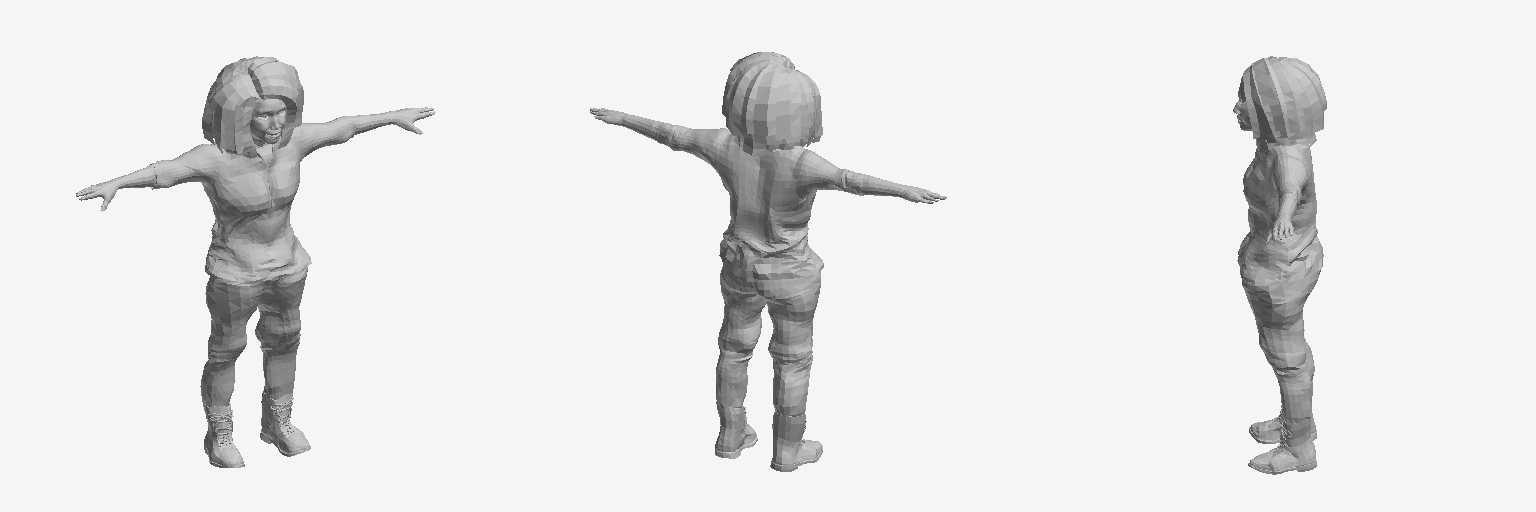
The model's file is Hades Daughter.obj.
3 views of the same model, side by side, from view 1: azimuth 30°, elevation 25°; view 2: azimuth 150°, elevation 25°; view 3: azimuth 270°, elevation 25° (orthographic).
Parts seen in each view (by area): view 1: Tops, Bottoms, Hair, Body, Shoes; view 2: Tops, Bottoms, Hair, Shoes, Body; view 3: Tops, Hair, Bottoms, Shoes, Body.
Boxes of the visible parts, x1,y1,x2,y2 form: Tops: [150, 116, 354, 284]; Bottoms: [200, 249, 307, 419]; Hair: [202, 56, 303, 158]; Body: [76, 99, 435, 211]; Shoes: [202, 390, 310, 467]; Tops: [657, 123, 863, 279]; Bottoms: [716, 257, 820, 426]; Hair: [722, 52, 822, 155]; Shoes: [715, 401, 822, 471]; Body: [590, 108, 946, 203]; Tops: [1237, 141, 1323, 285]; Hair: [1240, 56, 1326, 153]; Bottoms: [1242, 269, 1320, 425]; Shoes: [1248, 380, 1316, 474]; Body: [1233, 87, 1297, 244].
Size of the model in its own units: 131 by 139 by 29.8.